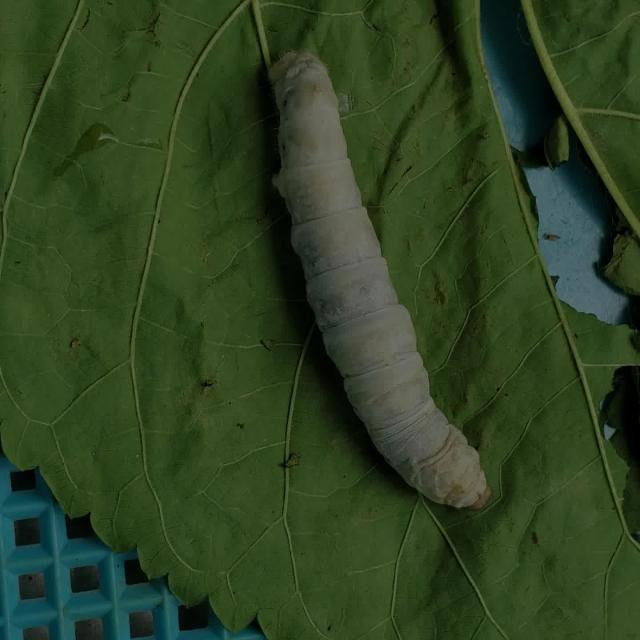Grasserie: (199, 17, 546, 541)
